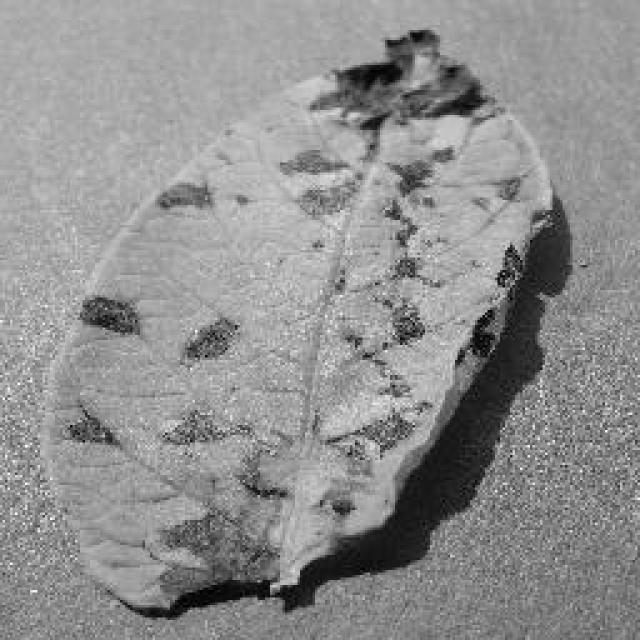Potato: (38, 25, 560, 615)
